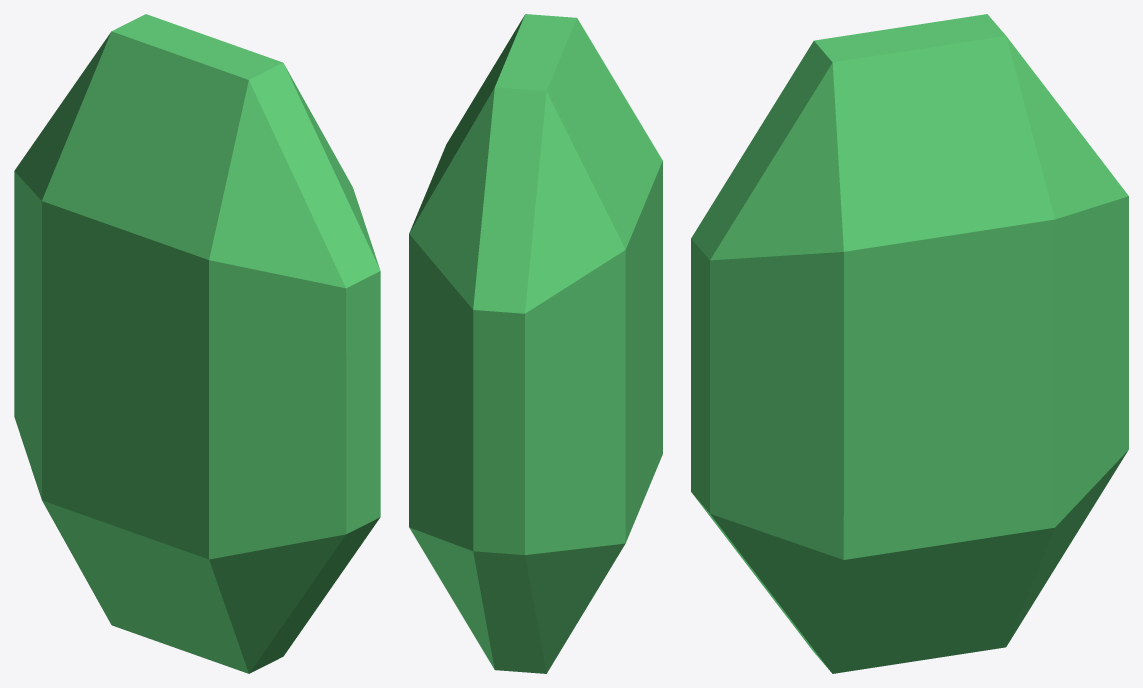
Rendered from WindGem.fbx.
3 views of the same model, side by side, from view 1: azimuth 30°, elevation 25°; view 2: azimuth 150°, elevation 25°; view 3: azimuth 270°, elevation 25° (orthographic). The views are drawn at different scales.
Parts seen in each view (by area): view 1: WindGem; view 2: WindGem; view 3: WindGem.
Boxes of the visible parts, bbox=[...] form: WindGem: bbox=[14, 14, 380, 673]; WindGem: bbox=[409, 14, 662, 673]; WindGem: bbox=[691, 14, 1128, 673].
Size of the model in its own units: 48.99 by 113 by 73.07.
